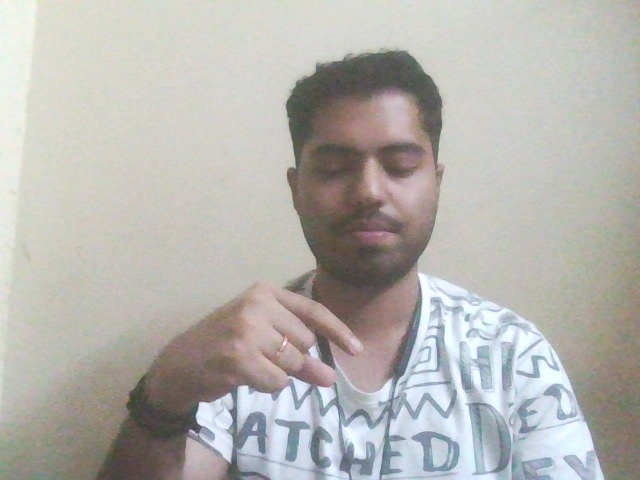U: (126, 268, 367, 431)
